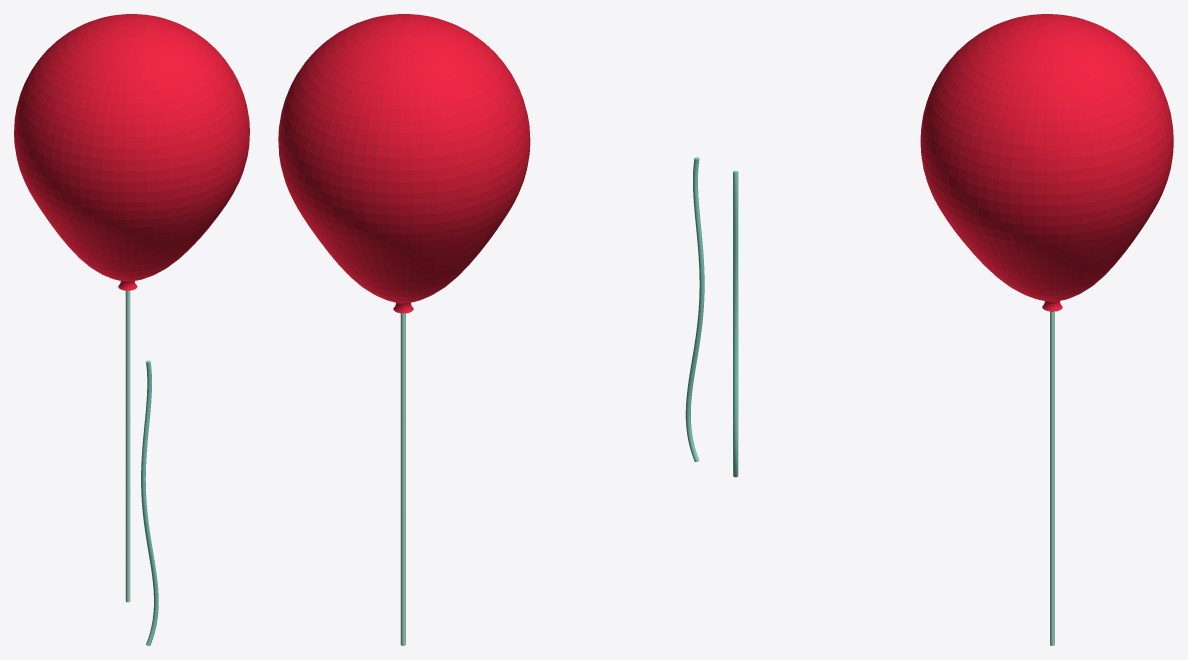
File: Ballooncolored.fbx
3 views of the same model, side by side, from view 1: azimuth 30°, elevation 25°; view 2: azimuth 150°, elevation 25°; view 3: azimuth 270°, elevation 25° (orthographic). The views are drawn at different scales.
Visible parts, largest first — view 1: Sphere, NurbsPath, NurbsPath.001; view 2: Sphere, NurbsPath, NurbsPath.001; view 3: Sphere, NurbsPath.001, NurbsPath.
Boxes of the visible parts, box(x1,y1,x2,y2) form: Sphere: box(14, 14, 249, 290); NurbsPath: box(125, 290, 130, 602); NurbsPath.001: box(141, 360, 158, 645); Sphere: box(278, 14, 530, 313); NurbsPath: box(400, 313, 405, 645); NurbsPath.001: box(685, 157, 704, 461); Sphere: box(920, 14, 1173, 311); NurbsPath.001: box(733, 170, 738, 477); NurbsPath: box(1050, 311, 1054, 645).
Size of the model in its own units: 230 by 534 by 343.
